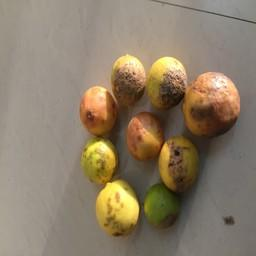Bad_lime: (183, 71, 242, 139), (93, 182, 140, 239), (159, 136, 205, 190), (76, 82, 121, 135), (145, 56, 187, 110), (122, 111, 162, 164), (78, 139, 120, 184), (110, 55, 145, 104), (143, 182, 179, 228)
